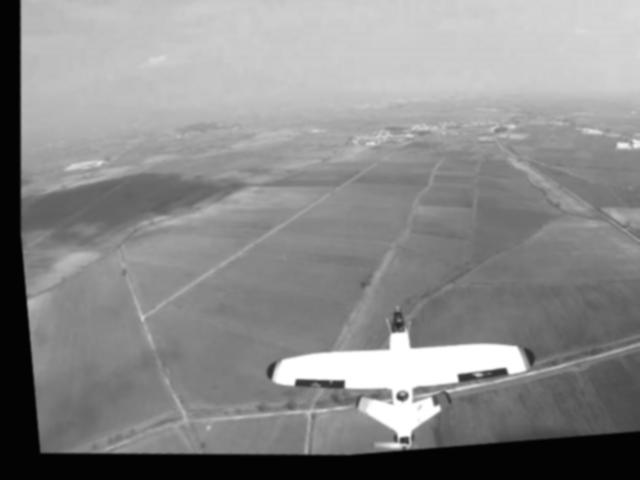hedef: (239, 278, 564, 466)
